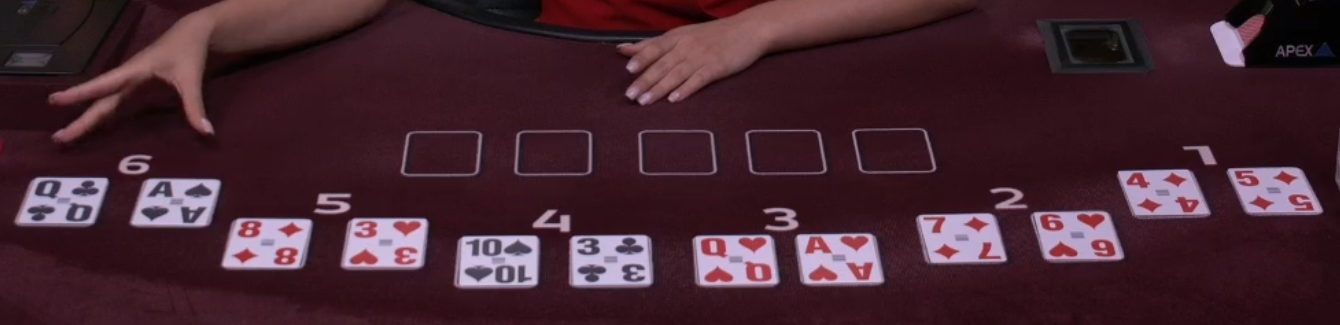10s: (450, 232, 544, 292)
3c: (562, 230, 662, 293)
3h: (338, 210, 437, 274)
4d: (1114, 167, 1217, 221)
5d: (1224, 162, 1328, 222)
6h: (1027, 205, 1128, 268)
7d: (912, 209, 1012, 270)
8d: (224, 215, 314, 275)
ash: (791, 227, 890, 292)
ass: (122, 170, 222, 231)
qc: (12, 170, 114, 230)
qh: (687, 229, 786, 290)
